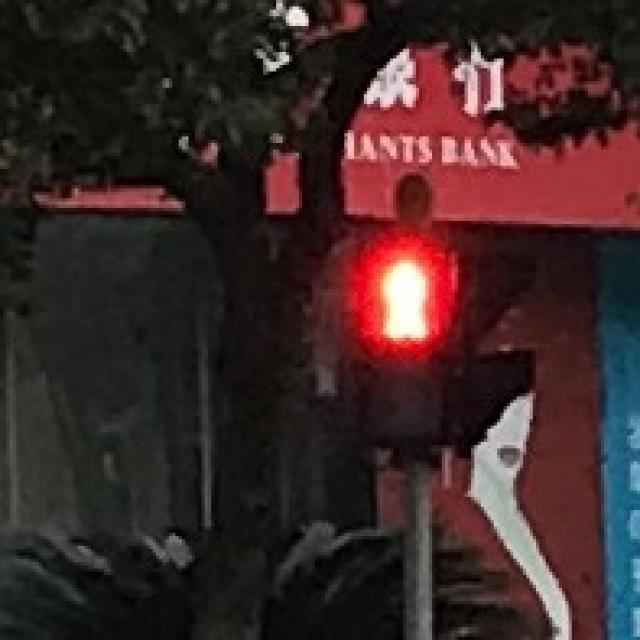red-crossing: (358, 244, 448, 358)
